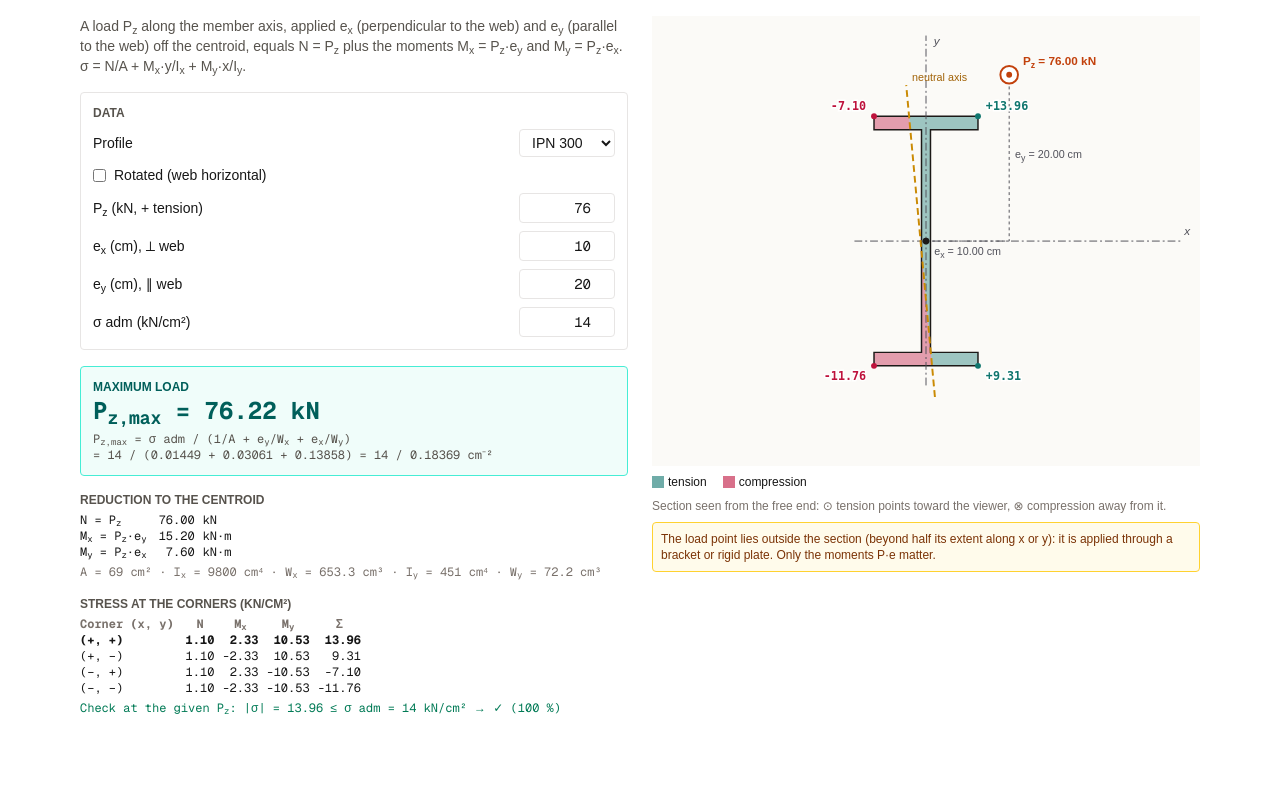
Test: EccentricSection › raising P_z above P_z,max fails the check
The image size is (1280, 800).
Replace the text in the number field named "P_z" with "80" at x=567, y=208, box [519, 193, 615, 223]
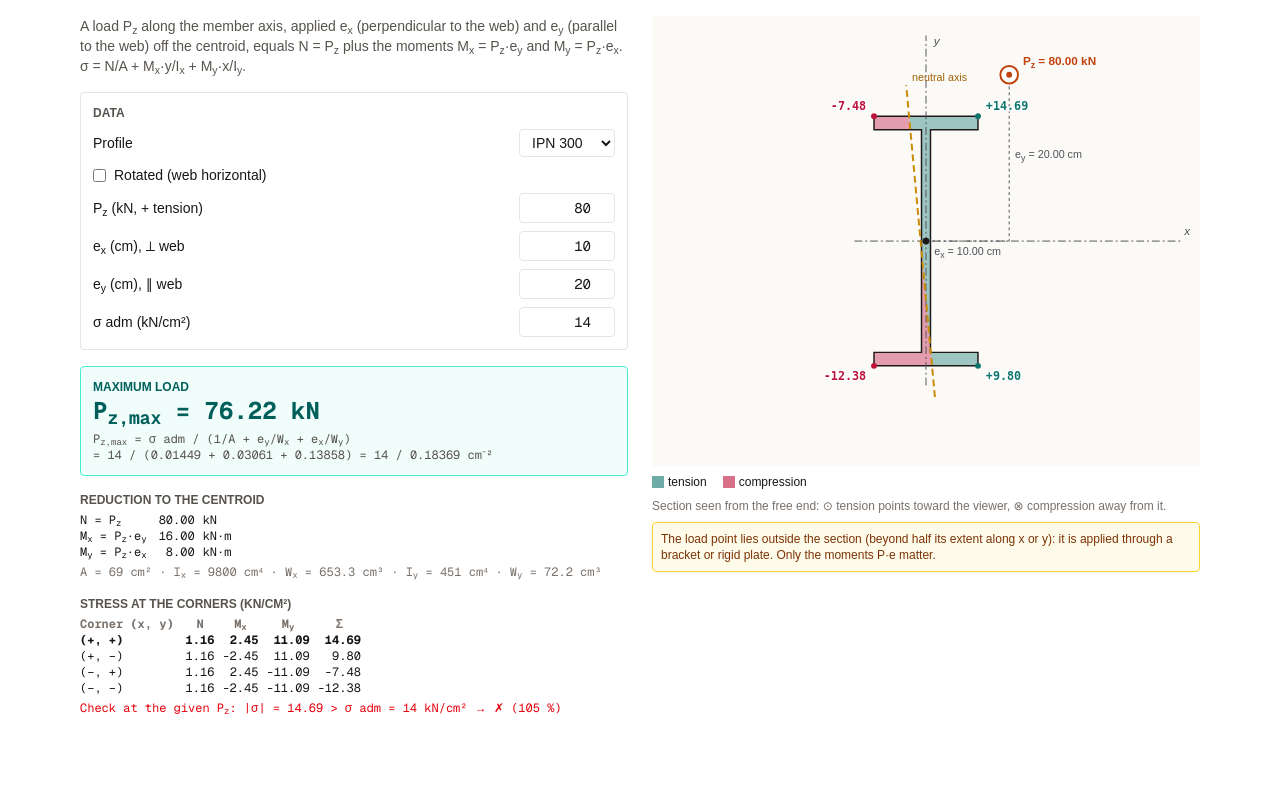
Expected: the element with test id "ecc-pmax" reads "Pz,max = 76.22 kN", [93, 395, 320, 428]
Now the element with test id "ecc-check" shows "✗", box [494, 700, 504, 716]
